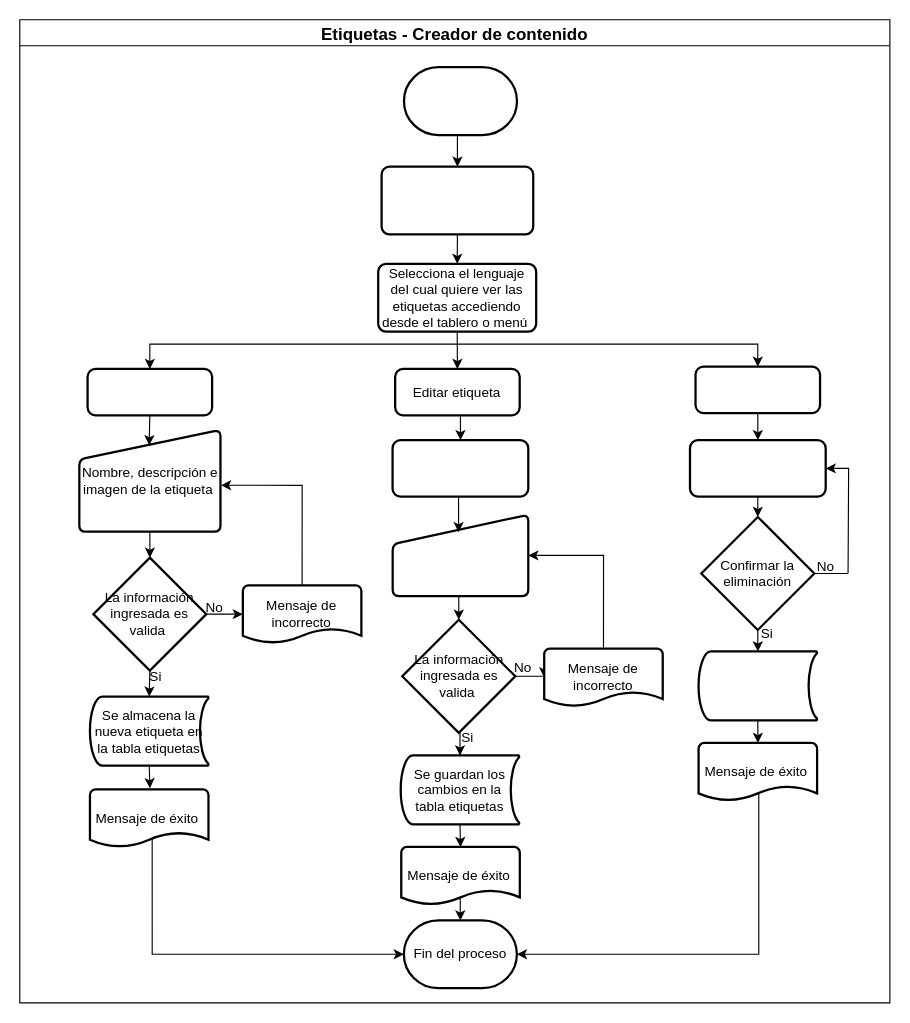
The diagram is 910 pixels wide and 1023 high, and some of its shapes have lost their labels. Here are the shapes that lost their labels. From the top down, the centre of each, then its label:
the point at 460,101: Inicio del proceso
the point at 457,200: El creador de contenido accede al sistema
the point at 149,391: Agregar etiqueta
the point at 757,389: Eliminar etiqueta
the point at 460,467: Selecciona la etiqueta a editar
the point at 757,467: Selecciona etiqueta a eliminar
the point at 460,555: Nombre, descripción o imagen de la etiqueta
the point at 757,685: Se elimina la etiqueta
